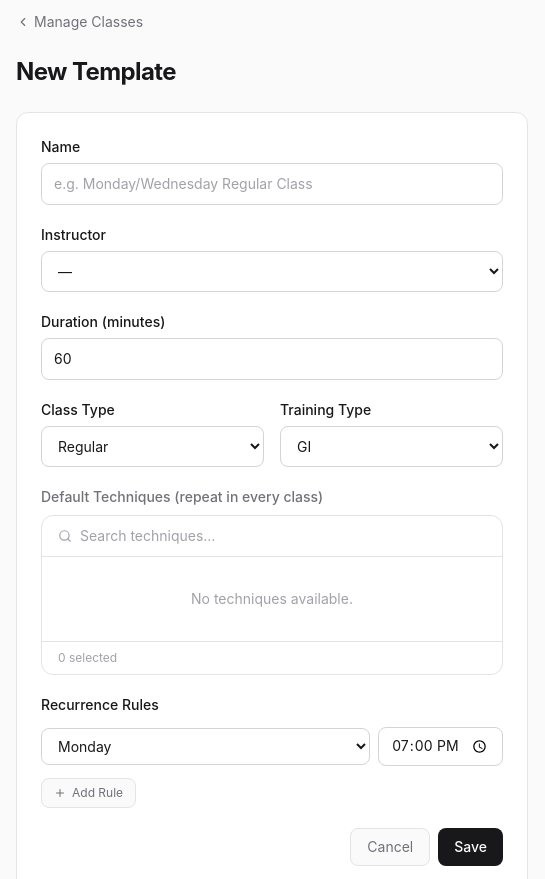
Test case: TemplateFormPage (create) › adds a recurrence rule row
Click the button "Add Rule" at (89, 793), box x1=41 y1=778 x2=136 y2=808
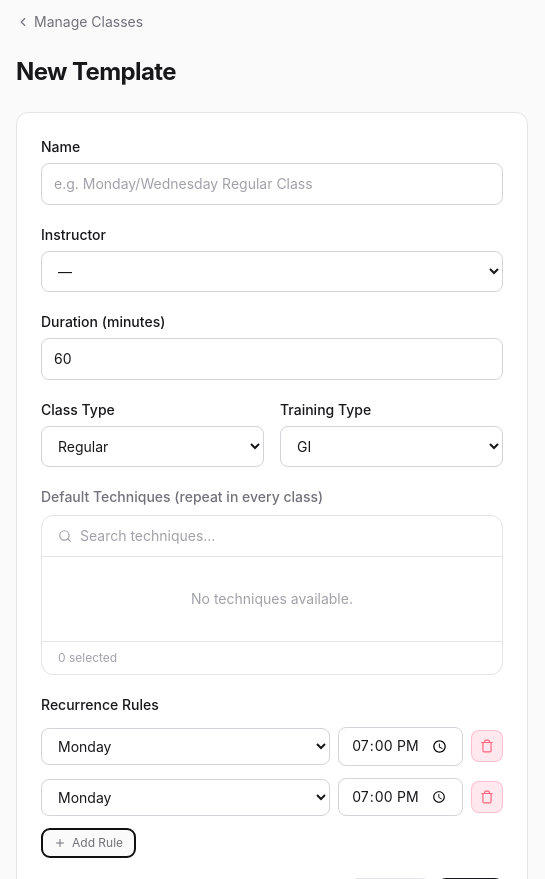
expect the number of time fields is 2: met, box x1=338 y1=727 x2=463 y2=766; x1=338 y1=778 x2=463 y2=816
